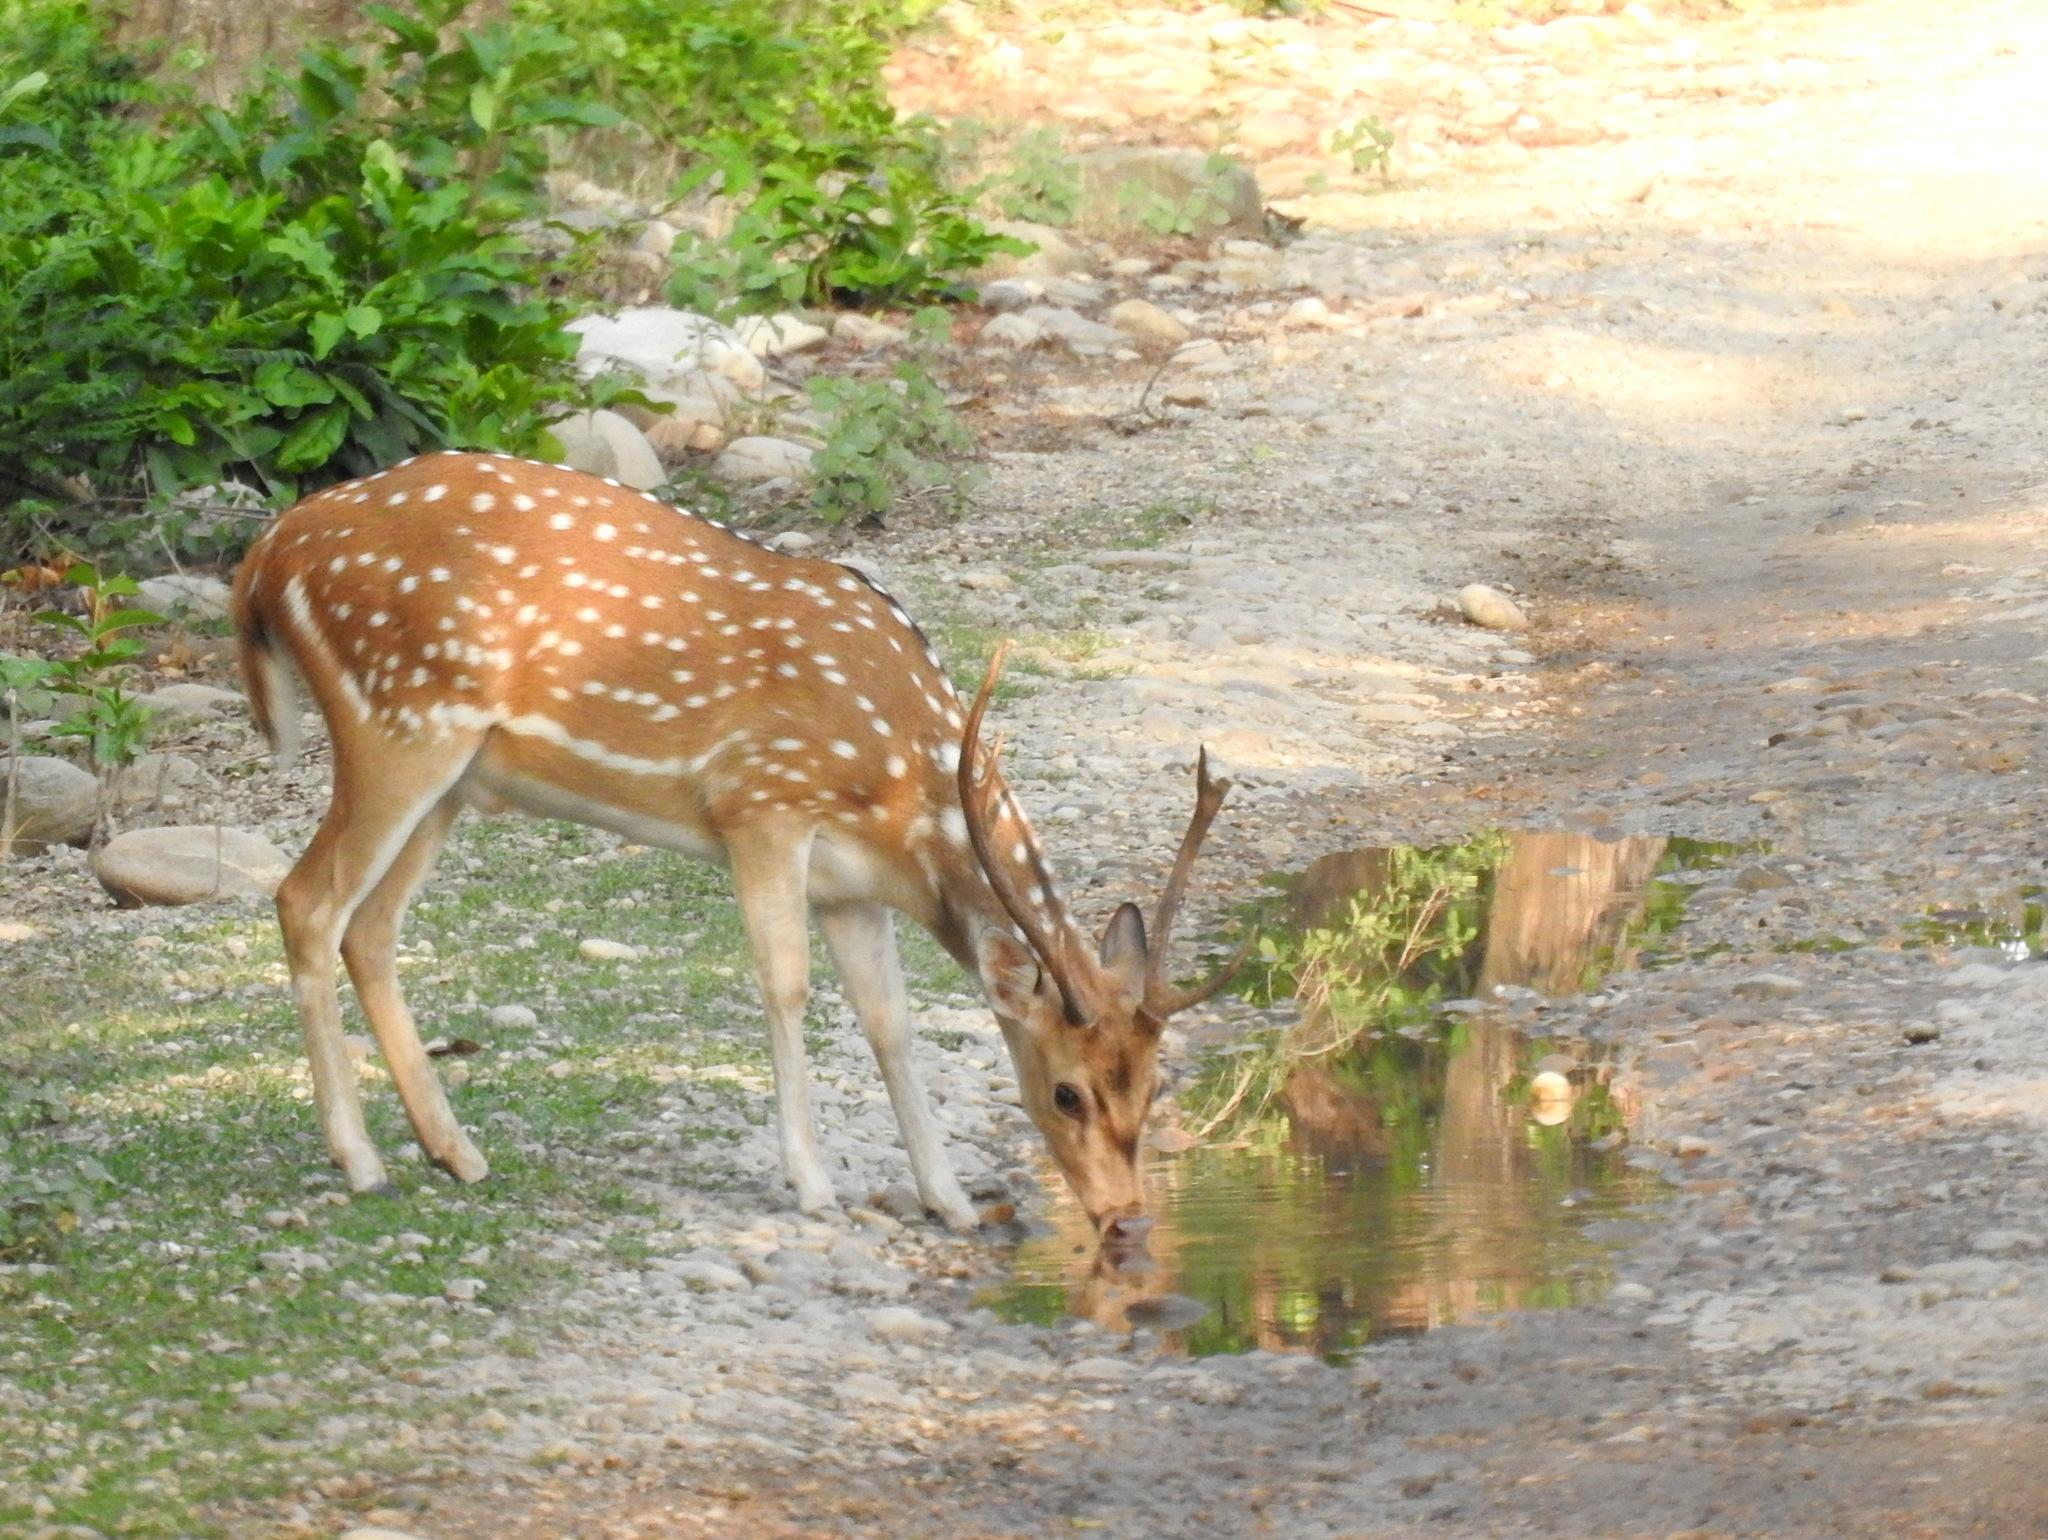Deer: (231, 451, 1239, 1267)
